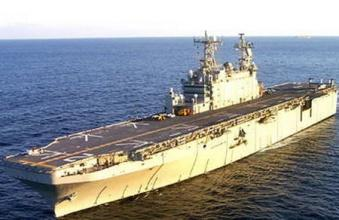warship: (15, 20, 338, 204)
